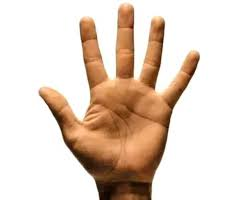palm: (35, 2, 202, 186)
